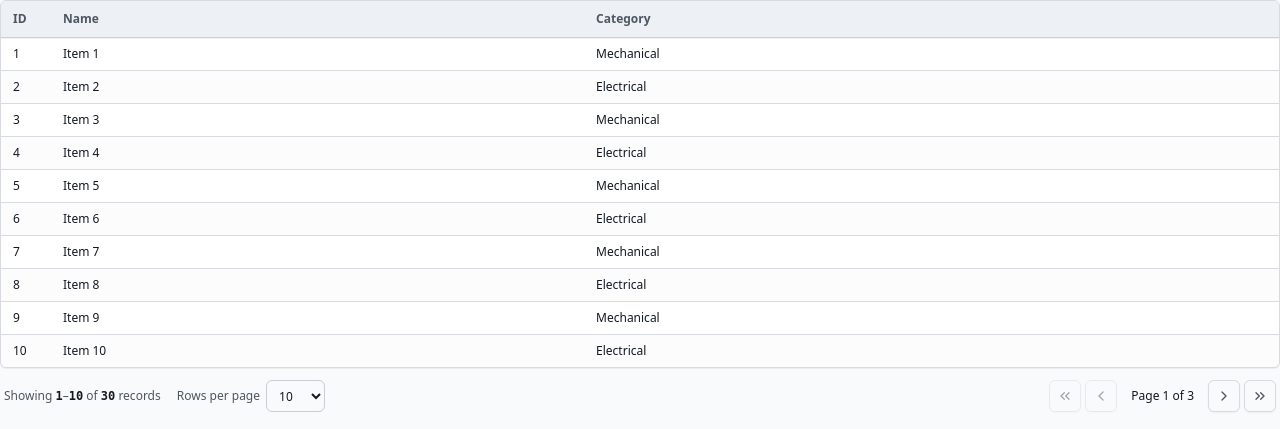
Test: DataTable abstraction component › paginates data in clientPagination mode
Check: the text "Showing 1–10 of 30 records" is shown, box top-left (4, 388), bottom-right (161, 404)
Check: the text "Item 1" is shown, box top-left (63, 45), bottom-right (99, 62)
Note: Go to next page
Click the button named "Next page": (1224, 396) top-left (1208, 380), bottom-right (1240, 412)
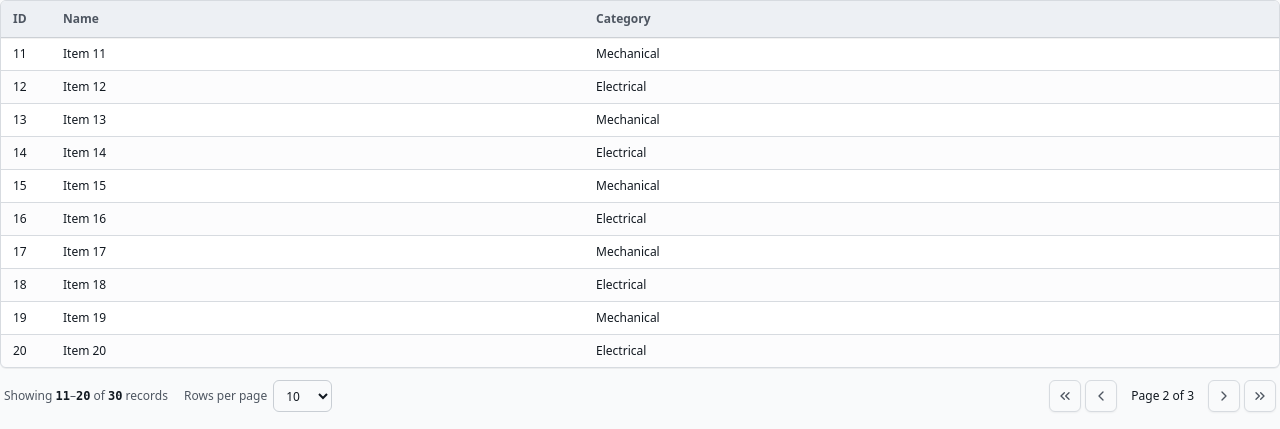
Check: the text "Showing 11–20 of 30 records" is shown, box top-left (4, 388), bottom-right (168, 404)
Check: the text "Item 11" is shown, box top-left (63, 45), bottom-right (106, 62)
Note: Go to last page
Click the button named "Last page": (1260, 396) top-left (1244, 380), bottom-right (1276, 412)
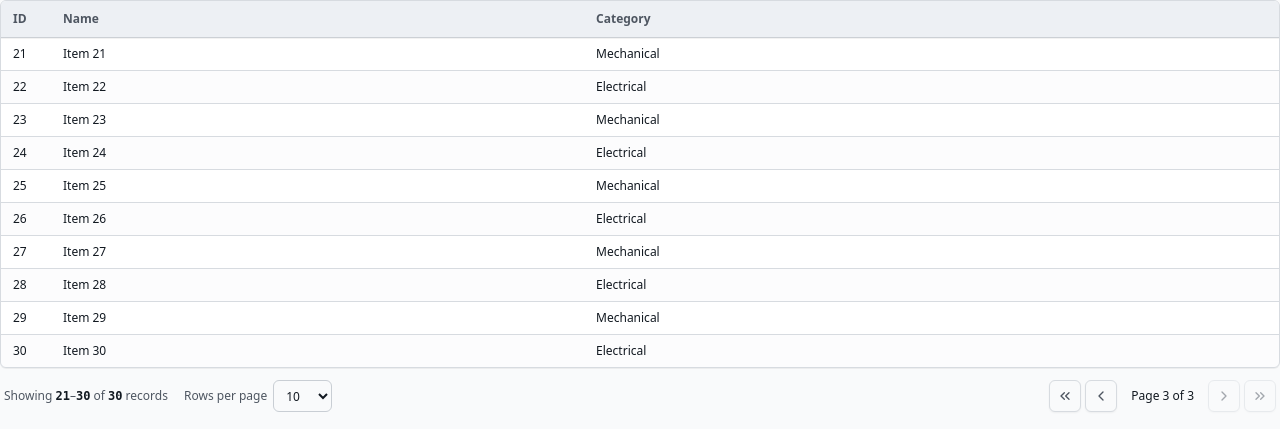
Check: the text "Showing 21–30 of 30 records" is shown, box top-left (4, 388), bottom-right (168, 404)
Check: the text "Item 30" is shown, box top-left (63, 342), bottom-right (106, 359)
